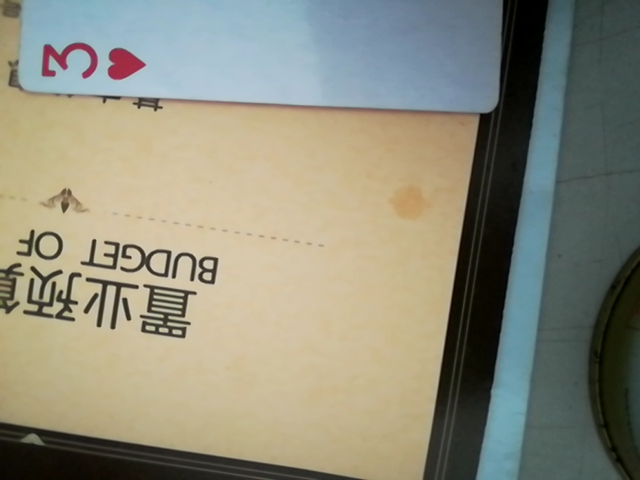hx 3: (19, 1, 536, 108)
